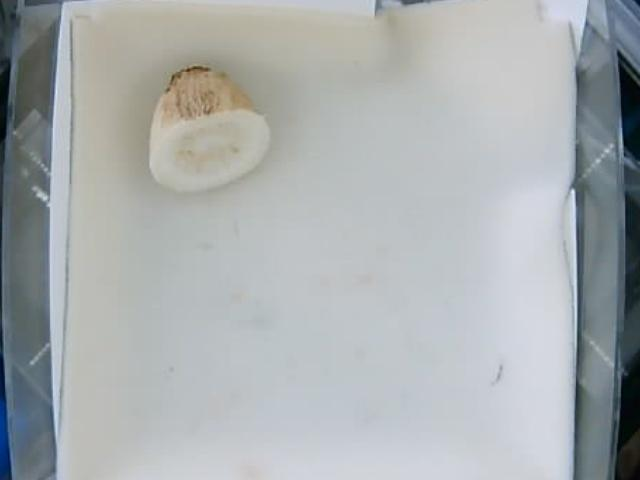Mooli: (148, 68, 271, 194)
